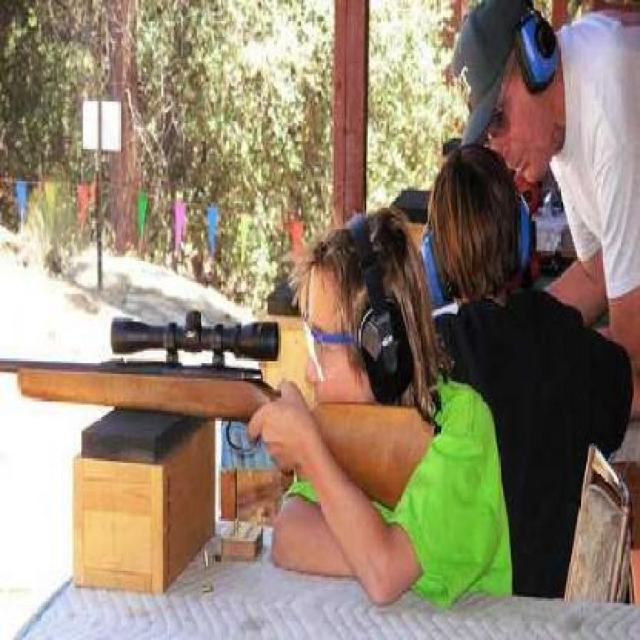weapon: (5, 313, 443, 516)
